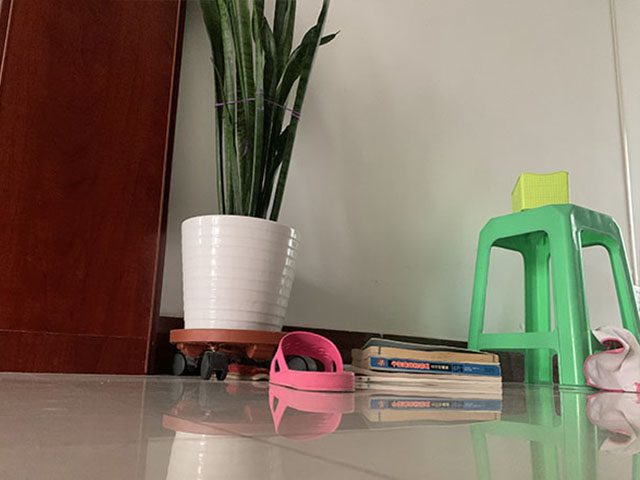book: (344, 336, 503, 392)
slippers: (266, 330, 358, 393)
stool: (464, 201, 640, 395)
